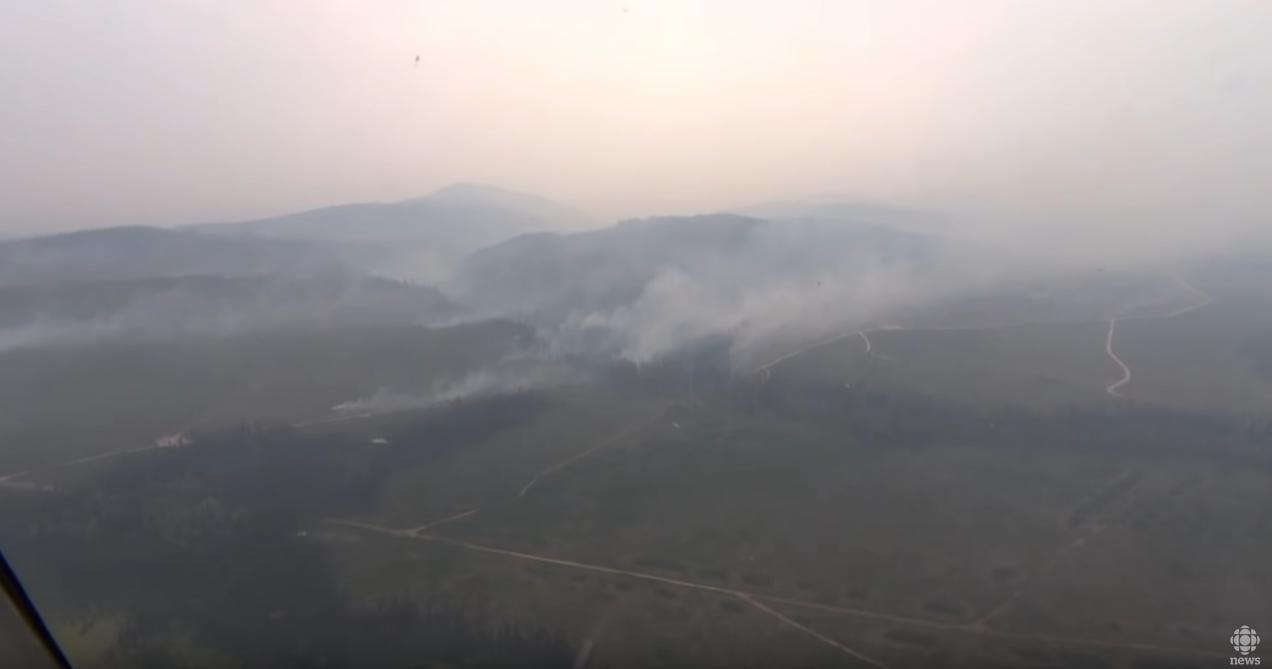smoke: (973, 45, 1252, 273), (652, 272, 872, 327)
